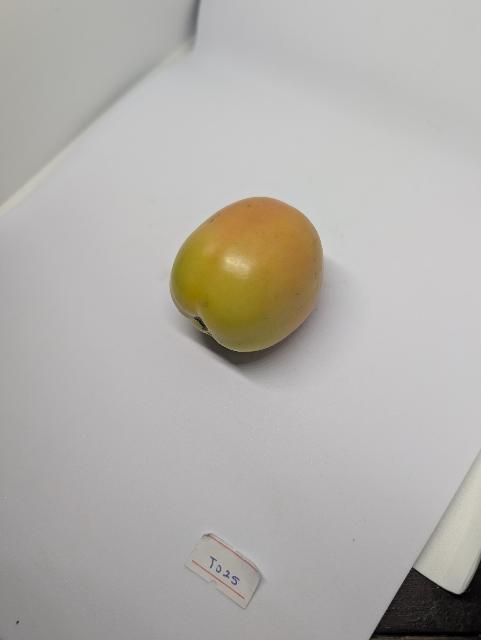turning: (163, 182, 337, 359)
